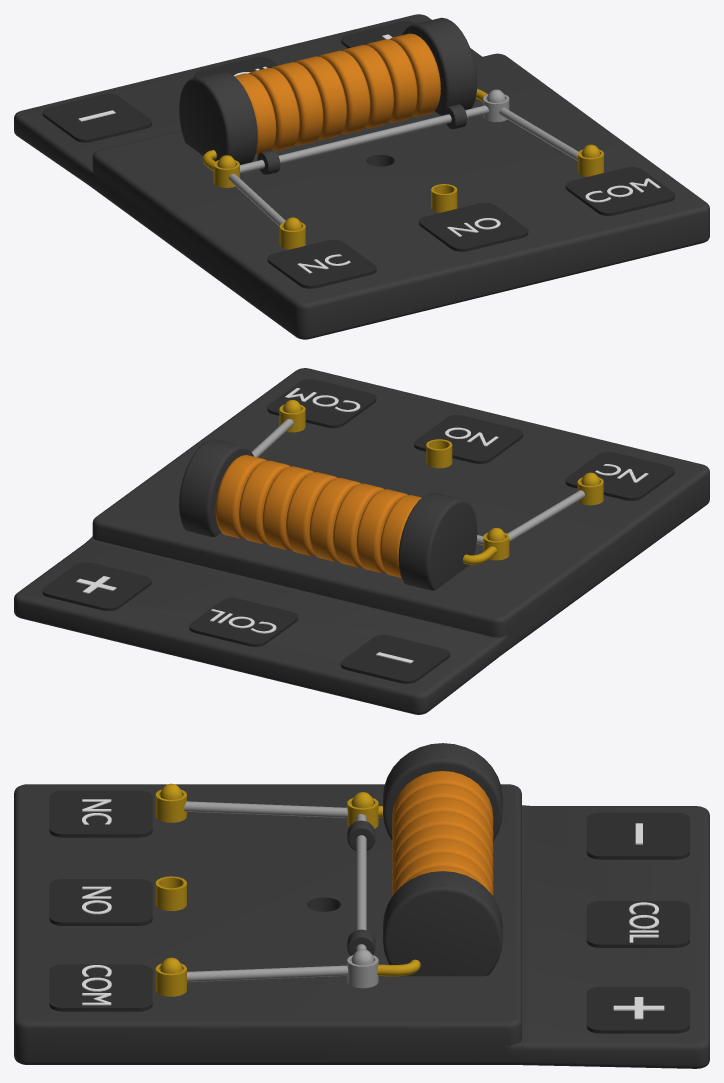
File: Relay.fbx
The picture shows the model from 3 angles, top to bottom: view 1: azimuth 30°, elevation 25°; view 2: azimuth 150°, elevation 25°; view 3: azimuth 270°, elevation 25°; orthographic projection. The views are drawn at different scales.
Visible parts, largest first — view 1: Cube, Circle, Circle.001, Circle.002, Cube.001; view 2: Cube, Circle, Circle.002, Cube.001; view 3: Cube, Circle, Circle.002, Circle.001, Cube.001, Text.002, Text.005, BézierCurve.
Part boxes in pixels (bbox=[...]): Cube: bbox=[14, 14, 709, 339]; Circle: bbox=[179, 17, 477, 164]; Circle.001: bbox=[240, 104, 488, 174]; Circle.002: bbox=[228, 107, 578, 226]; Cube.001: bbox=[213, 89, 509, 187]; Cube: bbox=[14, 368, 709, 714]; Circle: bbox=[179, 439, 477, 590]; Circle.002: bbox=[251, 419, 584, 541]; Cube.001: bbox=[483, 527, 509, 560]; Cube: bbox=[14, 783, 709, 1068]; Circle: bbox=[383, 743, 502, 976]; Circle.002: bbox=[184, 801, 348, 982]; Circle.001: bbox=[347, 814, 375, 955]; Cube.001: bbox=[347, 792, 378, 988]; Text.002: bbox=[82, 965, 111, 1005]; Text.005: bbox=[629, 902, 658, 942]; BézierCurve: bbox=[377, 806, 420, 976].
Size of the model in its own units: 200 by 52.42 by 244.
